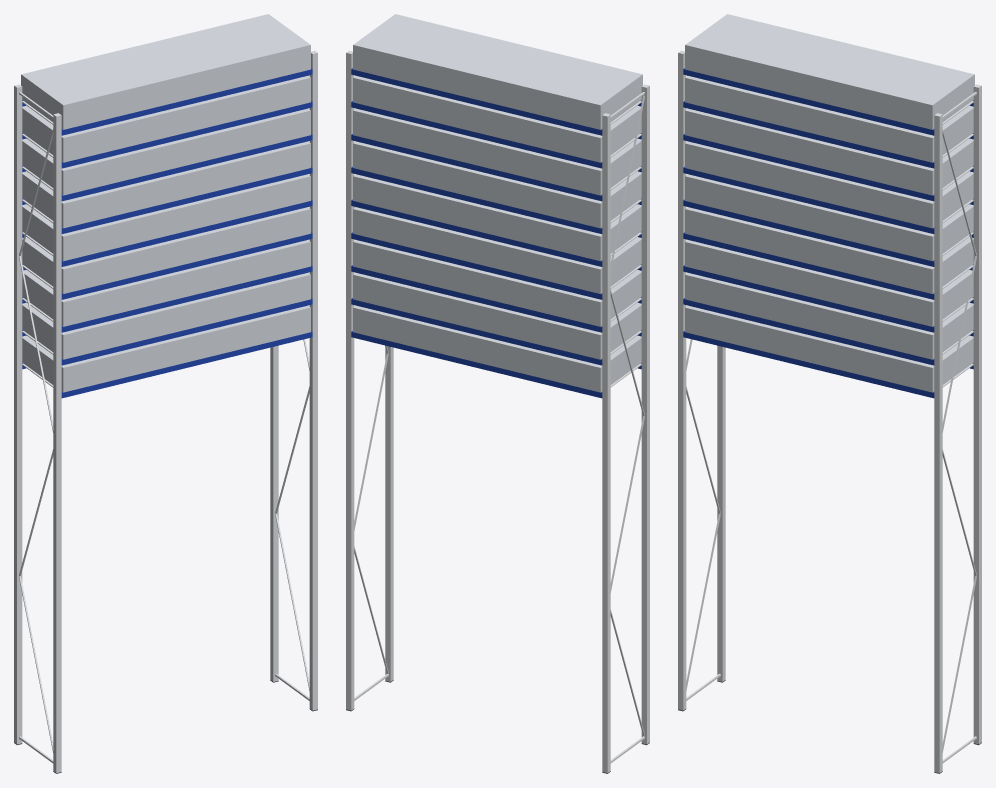
File: SM_MPR_CADRack_F20_W144_Passage_LOD2.fbx
3 renders of one model, left to right at view 1: azimuth 30°, elevation 25°; view 2: azimuth 150°, elevation 25°; view 3: azimuth 330°, elevation 25°, orthographic.
Visible parts, largest first — view 1: SM_MPR_CADRack_F20_W144_Passage_LOD2; view 2: SM_MPR_CADRack_F20_W144_Passage_LOD2; view 3: SM_MPR_CADRack_F20_W144_Passage_LOD2.
Boxes of the visible parts, x1,y1,x2,y2 form: SM_MPR_CADRack_F20_W144_Passage_LOD2: (14,14,317,773); SM_MPR_CADRack_F20_W144_Passage_LOD2: (346,14,649,773); SM_MPR_CADRack_F20_W144_Passage_LOD2: (678,14,981,773).
Bounding box in the file's own units: 381 × 107 × 929.
